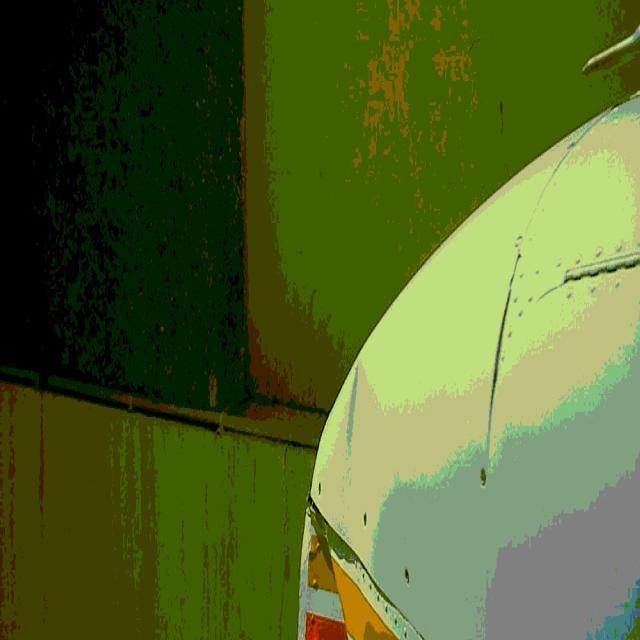dent: (337, 348, 378, 494)
